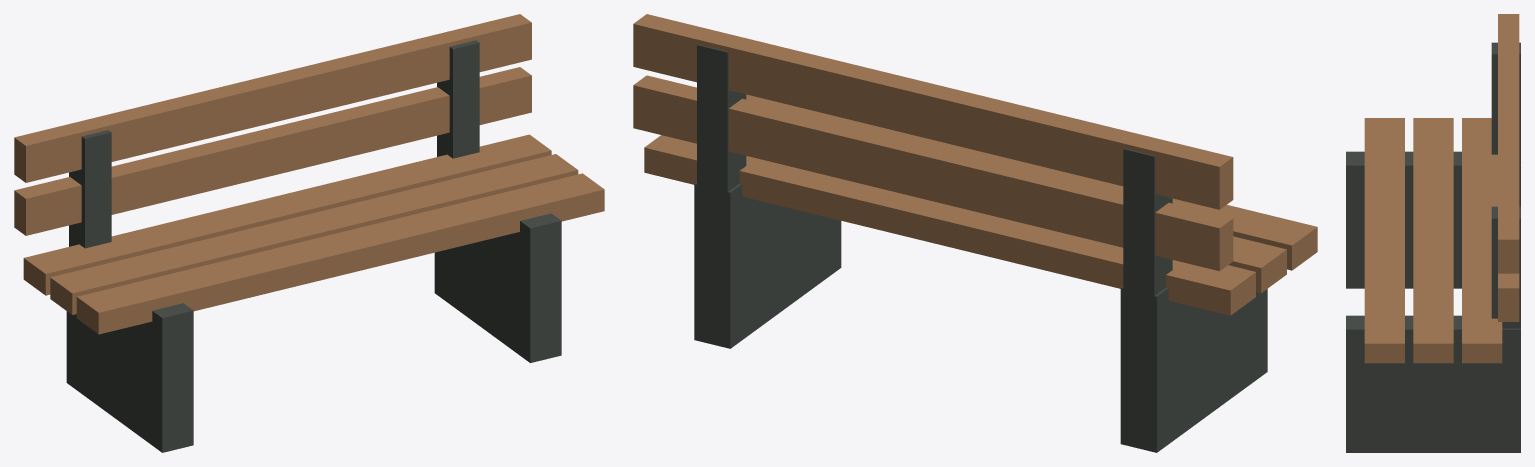
The model's file is TC_Bench.glb.
The picture shows the model from 3 angles, left to right: view 1: azimuth 30°, elevation 25°; view 2: azimuth 150°, elevation 25°; view 3: azimuth 270°, elevation 25°; orthographic projection. The views are drawn at different scales.
Visible parts, largest first — view 1: TC_Bench; view 2: TC_Bench; view 3: TC_Bench.
Part boxes in pixels (x1,y1,x2,y2): TC_Bench: (14,14,604,452); TC_Bench: (633,14,1317,452); TC_Bench: (1346,14,1520,452).
Bounding box in the file's own units: 11 × 5.39 × 3.6.
1 material, 1 textured.
